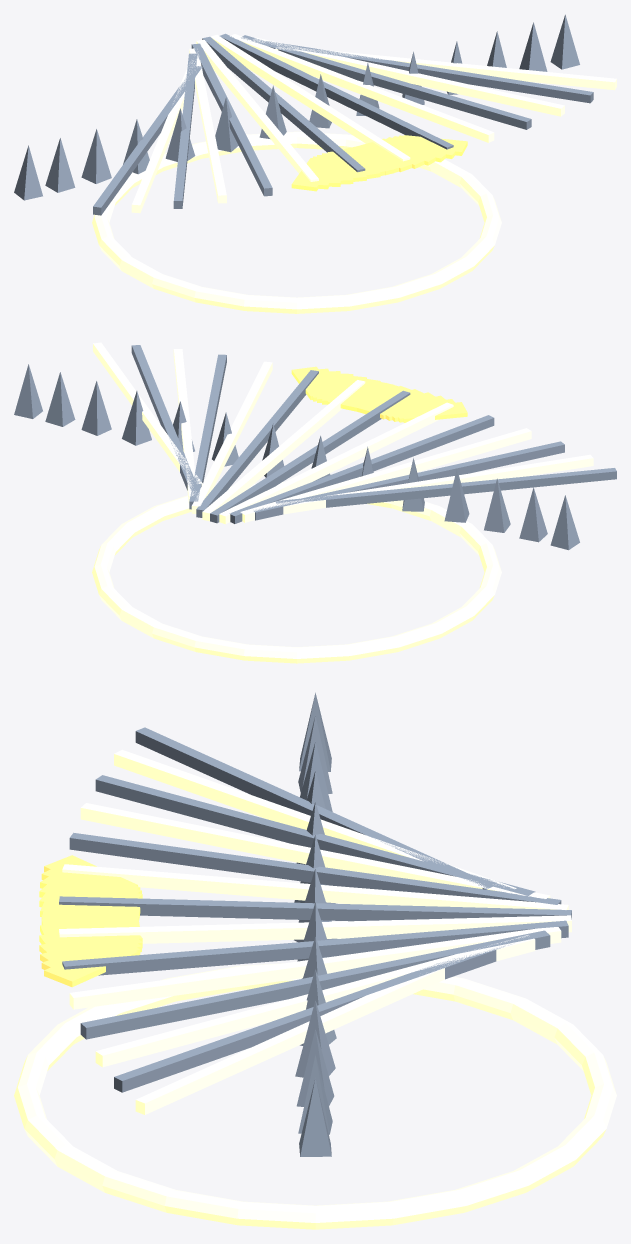
Rendered from arrows.glb.
3 renders of one model, top to bottom at view 1: azimuth 30°, elevation 25°; view 2: azimuth 150°, elevation 25°; view 3: azimuth 270°, elevation 25°, orthographic. The views are drawn at different scales.
Parts seen in each view (by area): view 1: arrows; view 2: arrows; view 3: arrows.
Boxes of the visible parts, x1,y1,x2,y2 form: arrows: (14, 14, 616, 313); arrows: (14, 342, 616, 663); arrows: (14, 692, 616, 1229).
Bounding box in the file's own units: 2.94 × 0.765 × 1.88.
